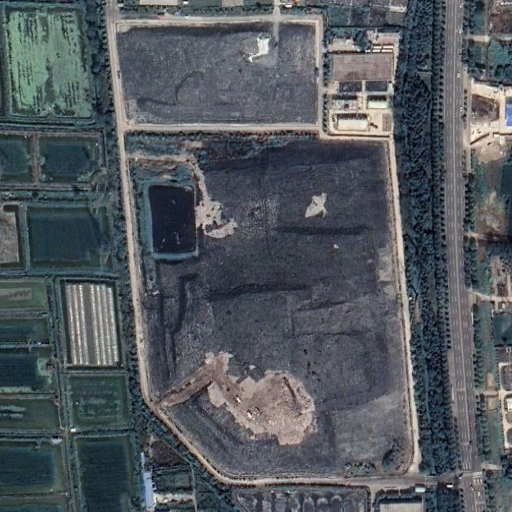lf: (132, 134, 417, 481), (118, 21, 319, 124)
